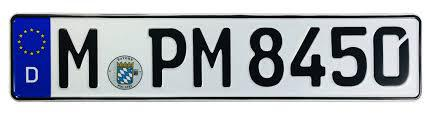0: (371, 23, 411, 88)
4: (288, 25, 327, 88)
5: (329, 25, 369, 88)
8: (244, 25, 288, 89)
M: (55, 26, 103, 89), (189, 27, 237, 89)
P: (145, 25, 189, 90)
